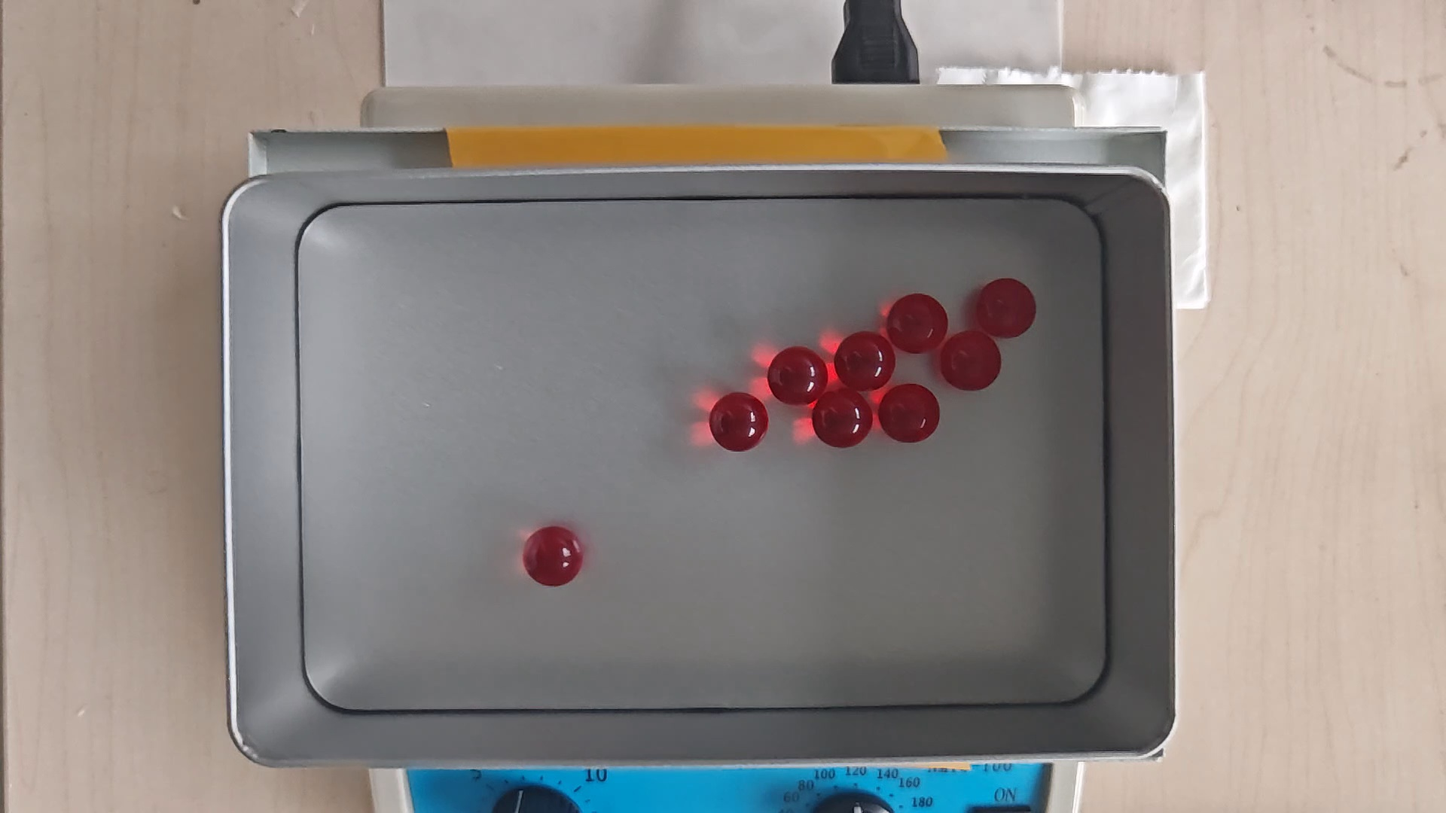ball: (523, 524, 584, 587), (941, 330, 1002, 392), (880, 383, 941, 444), (709, 391, 769, 453), (813, 388, 872, 449), (888, 293, 947, 354), (977, 277, 1036, 338), (768, 346, 827, 405), (836, 332, 895, 391)
container: (293, 202, 1113, 706)
